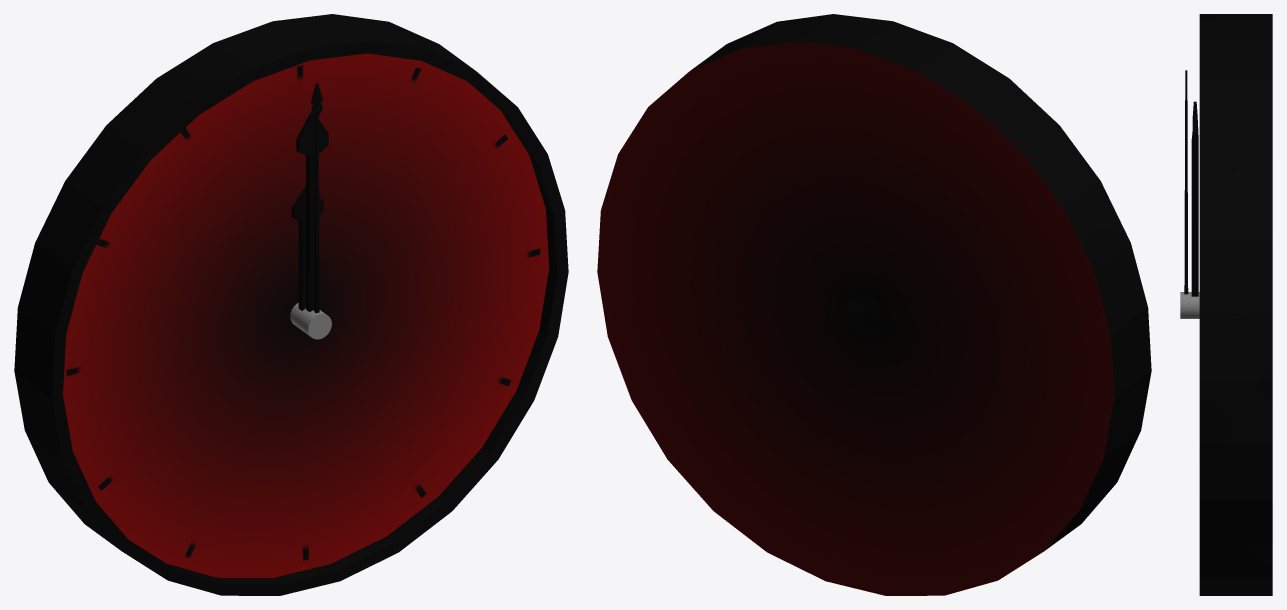
Rendered from clock.fbx.
3 views of the same model, side by side, from view 1: azimuth 30°, elevation 25°; view 2: azimuth 150°, elevation 25°; view 3: azimuth 270°, elevation 25° (orthographic). The views are drawn at different scales.
Visible parts, largest first — view 1: Main, MinuteHand, SecondHand, HourHand, Center; view 2: Main; view 3: Main, MinuteHand, SecondHand, Center.
Boxes of the visible parts, x1,y1,x2,y2 form: Main: (14, 14, 568, 595); MinuteHand: (296, 112, 328, 311); SecondHand: (311, 83, 323, 313); HourHand: (291, 186, 323, 310); Center: (290, 303, 331, 339); Main: (597, 14, 1151, 595); Main: (1199, 14, 1272, 595); MinuteHand: (1191, 101, 1198, 296); SecondHand: (1184, 70, 1188, 294); Center: (1180, 292, 1199, 318).
Size of the model in its own units: 2 by 1.99 by 0.3161.
